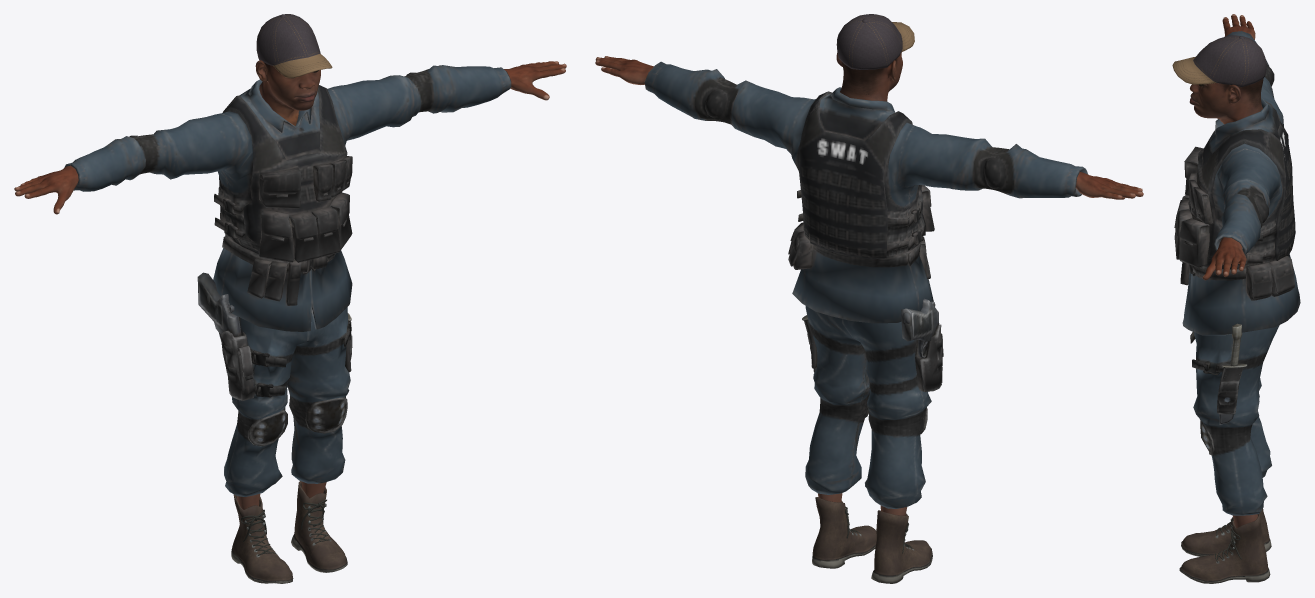
File: Casual Soldier 3.obj
The picture shows the model from 3 angles, left to right: view 1: azimuth 30°, elevation 25°; view 2: azimuth 150°, elevation 25°; view 3: azimuth 270°, elevation 25°; orthographic projection. The views are drawn at different scales.
Parts seen in each view (by area): view 1: Tops, Bottoms, Shoes, Body, Hats; view 2: Tops, Bottoms, Shoes, Body, Hats; view 3: Tops, Bottoms, Shoes, Body, Hats.
Boxes of the visible parts, <box> form: Tops: <box>64,65,511,331</box>; Bottoms: <box>197,272,352,496</box>; Shoes: <box>231,481,347,583</box>; Body: <box>14,60,566,509</box>; Hats: <box>256,14,332,78</box>; Tops: <box>644,61,1088,323</box>; Bottoms: <box>802,298,943,508</box>; Shoes: <box>812,497,932,583</box>; Body: <box>595,52,1143,515</box>; Hats: <box>836,14,914,69</box>; Tops: <box>1174,31,1300,335</box>; Bottoms: <box>1190,323,1279,515</box>; Shoes: <box>1179,509,1271,583</box>; Body: <box>1189,14,1263,527</box>; Hats: <box>1172,35,1266,87</box>.
Bounding box in the file's own units: 187 × 178 × 39.14.
Materials: 1 (1 with a texture image).
